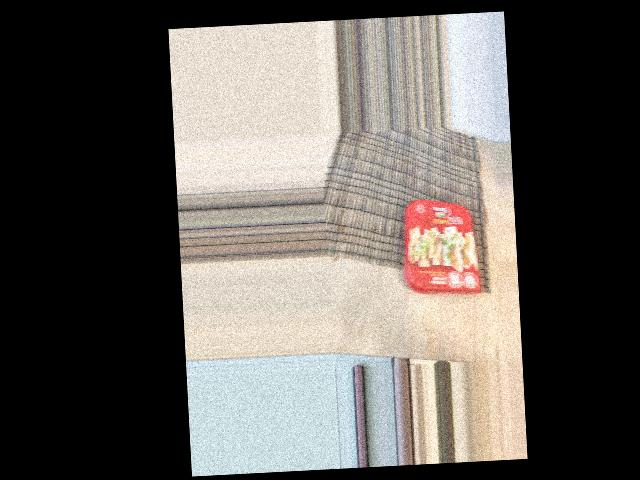cheese: (402, 193, 489, 311)
